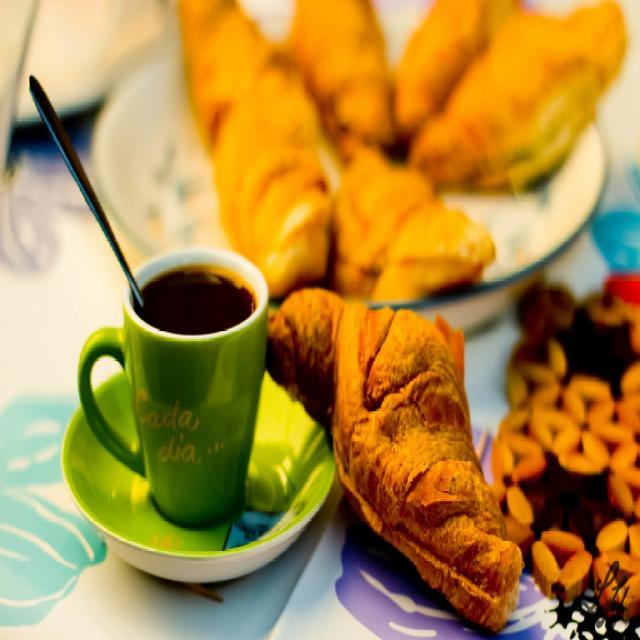Croissant: (279, 301, 515, 602), (182, 0, 330, 296), (416, 0, 628, 190), (329, 150, 495, 296), (393, 0, 505, 134), (288, 0, 390, 141)
